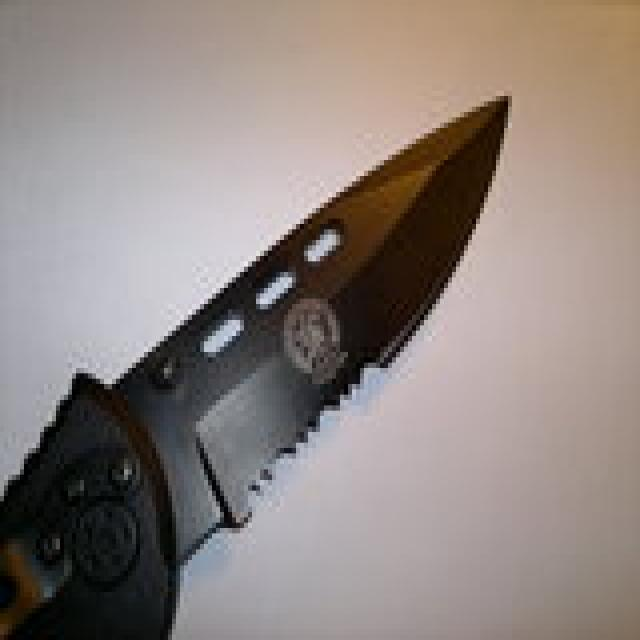Knife: (18, 87, 512, 599)
